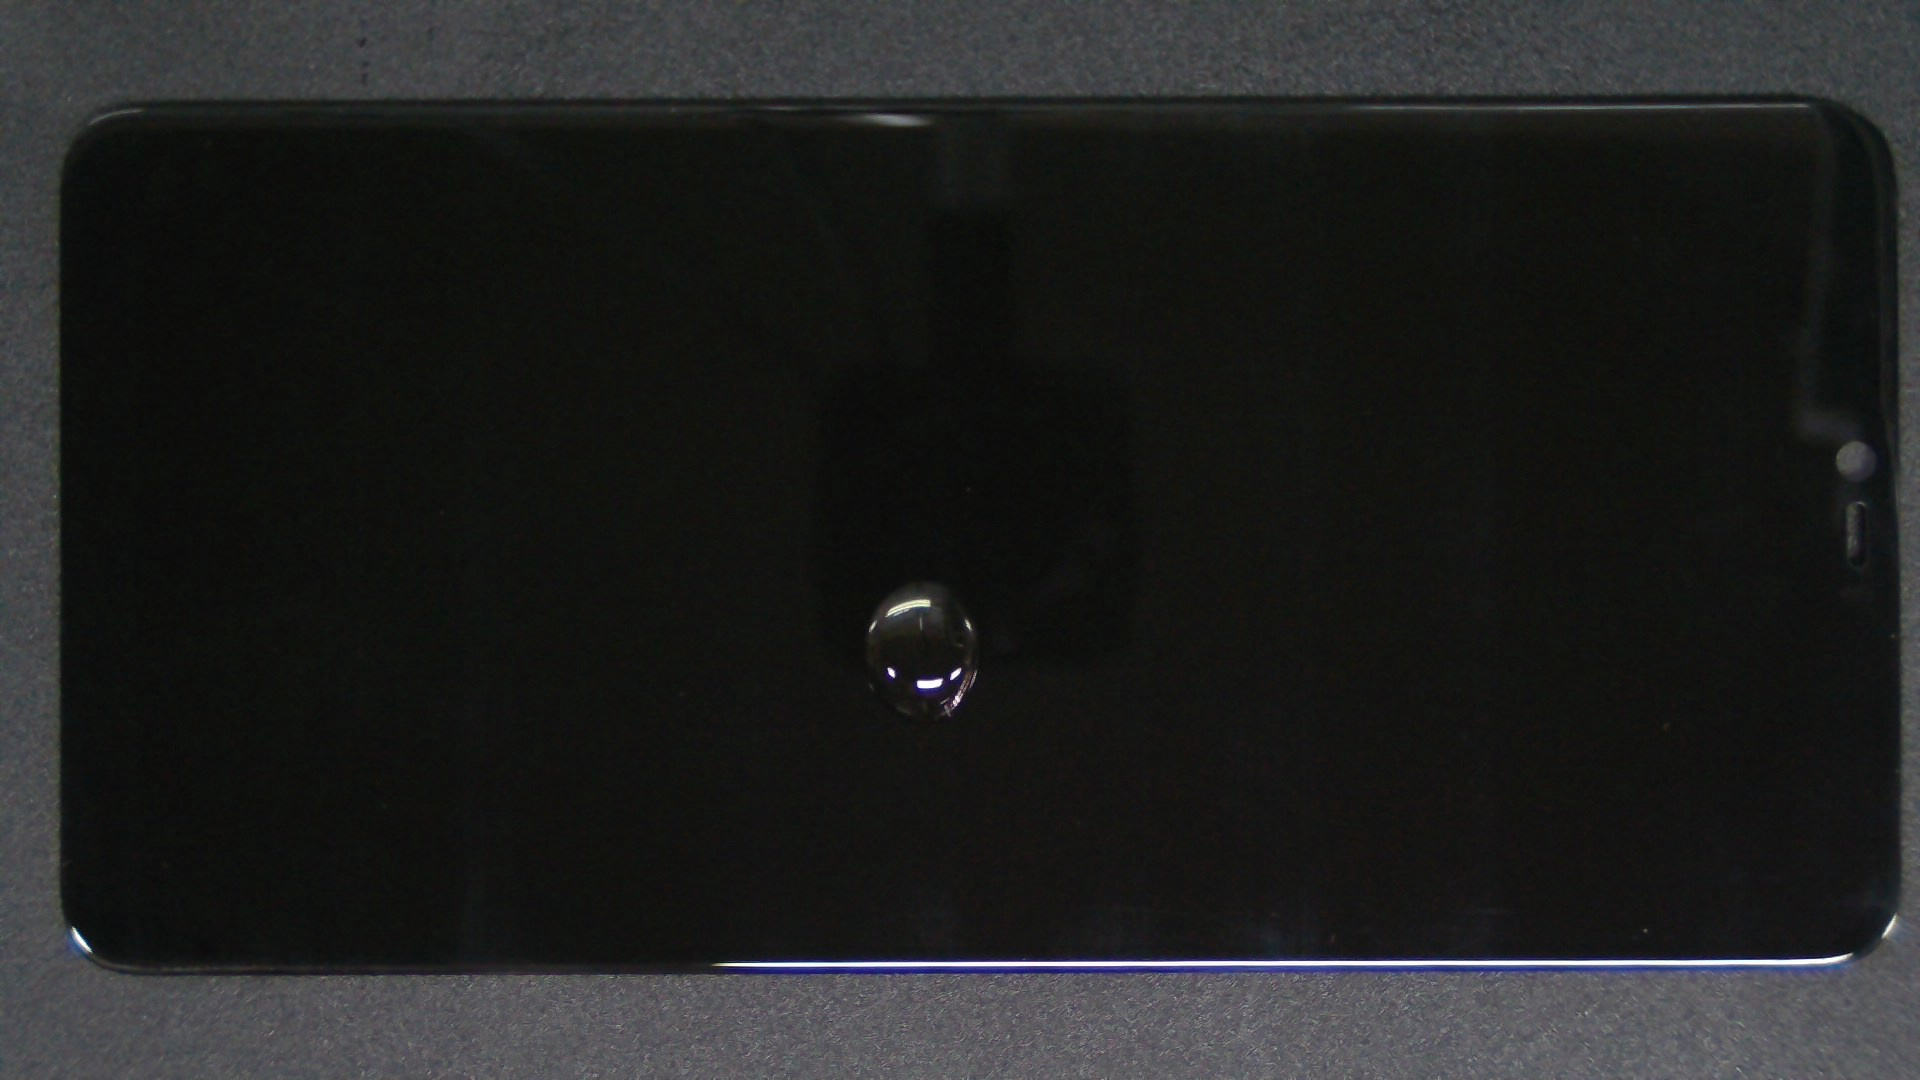oil: (458, 290, 1369, 872)
